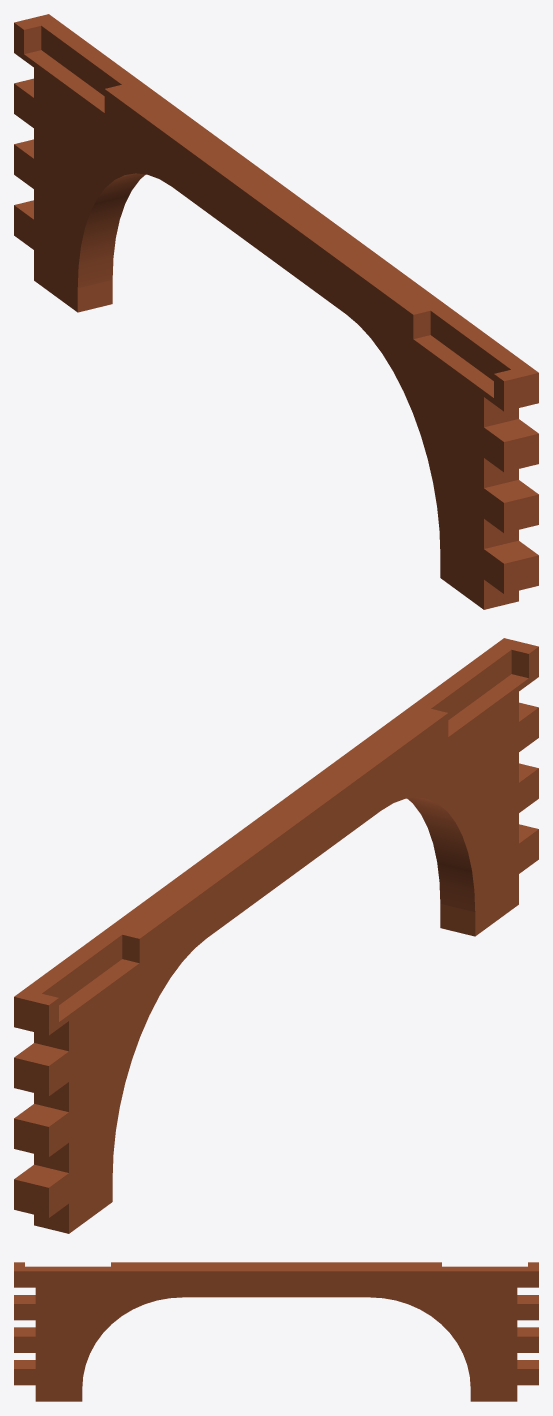
Rendered from original-5.obj.
3 renders of one model, top to bottom at view 1: azimuth 30°, elevation 25°; view 2: azimuth 150°, elevation 25°; view 3: azimuth 270°, elevation 25°, orthographic. The views are drawn at different scales.
Parts seen in each view (by area): view 1: Plinth__Ends_2_1/Plinth__Ends_2/mesh7/mesh7-geometry#mesh7-geome; view 2: Plinth__Ends_2_1/Plinth__Ends_2/mesh7/mesh7-geometry#mesh7-geome; view 3: Plinth__Ends_2_1/Plinth__Ends_2/mesh7/mesh7-geometry#mesh7-geome.
Boxes of the visible parts, box(x1,y1,x2,y2) form: Plinth__Ends_2_1/Plinth__Ends_2/mesh7/mesh7-geometry#mesh7-geome: box(14, 14, 538, 609); Plinth__Ends_2_1/Plinth__Ends_2/mesh7/mesh7-geometry#mesh7-geome: box(14, 638, 538, 1233); Plinth__Ends_2_1/Plinth__Ends_2/mesh7/mesh7-geometry#mesh7-geome: box(14, 1262, 538, 1401).
Size of the model in its own units: 0.0307 by 0.2049 by 0.7478.
